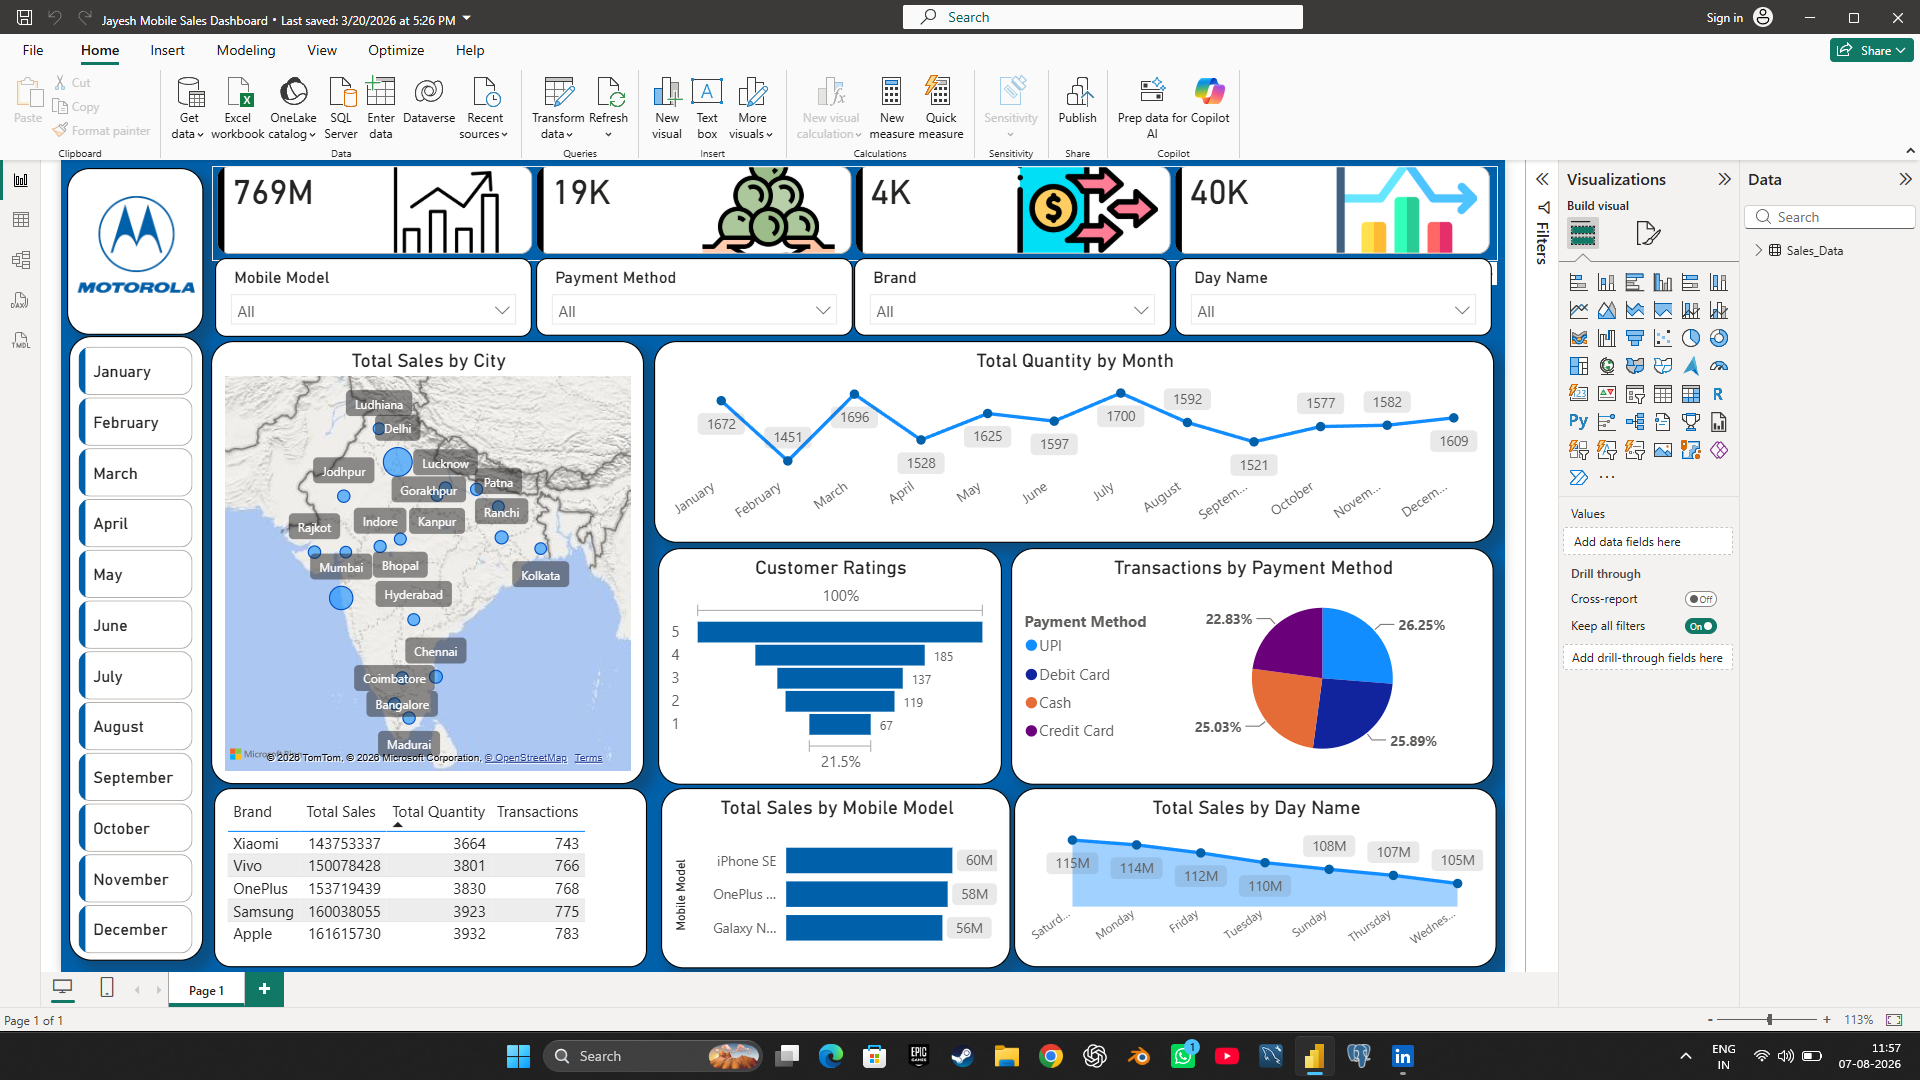

The dashboard page shown, as its layout file describes it:
{"tool":"powerbi","page":{"name":"Page 1","canvas":[1280,720],"ordinal":0},"visuals":[{"type":"shape","box":[5.5,6.9,120.8,148.2],"z":0},{"type":"image","box":[9.6,16.5,113.9,116.6],"z":1000},{"type":"shape","box":[6.9,156.4,119.4,554.4],"z":2000},{"type":"advancedSlicerVisual","fields":{"Values":["Sales_Data.Date.Variation.Date Hierarchy.Month"]},"box":[11,160.5,111.1,548.9],"z":3000},{"type":"cardVisual","fields":{"Data":["Sales_Data.Total Sales","Sales_Data.Total Quantity","Sales_Data.Transactions","Sales_Data.Average"]},"box":[134,5.6,1140.1,83.7],"z":4000},{"type":"map","fields":{"Category":["Sales_Data.City"],"Size":["Sales_Data.Total Sales"]},"box":[132.9,160.8,384.1,393.1],"z":5000},{"type":"lineChart","fields":{"Y":["Sales_Data.Total Quantity"],"Category":["Sales_Data.Date.Variation.Date Hierarchy.Month","Sales_Data.Date.Variation.Date Hierarchy.Day"]},"box":[525.9,160.8,744.8,178.7],"z":6000},{"type":"clusteredBarChart","fields":{"Category":["Sales_Data.Mobile Model"],"Y":["Sales_Data.Total Sales"]},"box":[532,556.8,310.3,160.5],"z":7000},{"type":"pieChart","fields":{"Category":["Sales_Data.Payment Method"],"Y":["Sales_Data.Transactions"]},"box":[842.5,344.4,428.1,209.9],"z":8000},{"type":"funnel","title":"Customer Ratings","fields":{"Category":["Sales_Data.Customer Ratings"],"Y":["CountNonNull(Sales_Data.Customer Ratings)"]},"box":[529.7,344.4,304.6,209.9],"z":9000},{"type":"areaChart","fields":{"Category":["Sales_Data.Day Name"],"Y":["Sales_Data.Total Sales"]},"box":[845.3,557.1,428.1,159.2],"z":10000},{"type":"tableEx","fields":{"Values":["Sales_Data.Brand","Sales_Data.Total Sales","Sales_Data.Total Quantity","Sales_Data.Transactions"]},"box":[135.8,557.1,384.2,159.2],"z":11000},{"type":"slicer","fields":{"Values":["Sales_Data.Mobile Model"]},"box":[136.2,87.1,281.4,70.3],"z":12000},{"type":"slicer","fields":{"Values":["Sales_Data.Payment Method"]},"box":[421,87.1,281.4,69.2],"z":13000},{"type":"slicer","fields":{"Values":["Sales_Data.Brand"]},"box":[703.5,87.1,281.4,69.2],"z":14000},{"type":"slicer","fields":{"Values":["Sales_Data.Day Name"]},"box":[988.2,87.1,281.4,69.2],"z":15000}]}

Visuals, with their boxes on the page's 1280x720 design canvas (x1, y1, x2, y2). These are canvas units, not pixel positions in the 1920x1080 screenshot, which may show the page scaled, cropped or inside an application window:
shape: bbox=(6, 7, 126, 155)
image: bbox=(10, 16, 124, 133)
shape: bbox=(7, 156, 126, 711)
advancedSlicerVisual - Sales_Data.Date.Variation.Date Hierarchy.Month: bbox=(11, 160, 122, 709)
cardVisual - Sales_Data.Total Sales x Sales_Data.Total Quantity: bbox=(134, 6, 1274, 89)
map - Sales_Data.City x Sales_Data.Total Sales: bbox=(133, 161, 517, 554)
lineChart - Sales_Data.Total Quantity x Sales_Data.Date.Variation.Date Hierarchy.Month: bbox=(526, 161, 1271, 340)
clusteredBarChart - Sales_Data.Mobile Model x Sales_Data.Total Sales: bbox=(532, 557, 842, 717)
pieChart - Sales_Data.Payment Method x Sales_Data.Transactions: bbox=(842, 344, 1271, 554)
"Customer Ratings" funnel: bbox=(530, 344, 834, 554)
areaChart - Sales_Data.Day Name x Sales_Data.Total Sales: bbox=(845, 557, 1273, 716)
tableEx - Sales_Data.Brand x Sales_Data.Total Sales: bbox=(136, 557, 520, 716)
slicer - Sales_Data.Mobile Model: bbox=(136, 87, 418, 157)
slicer - Sales_Data.Payment Method: bbox=(421, 87, 702, 156)
slicer - Sales_Data.Brand: bbox=(704, 87, 985, 156)
slicer - Sales_Data.Day Name: bbox=(988, 87, 1270, 156)
